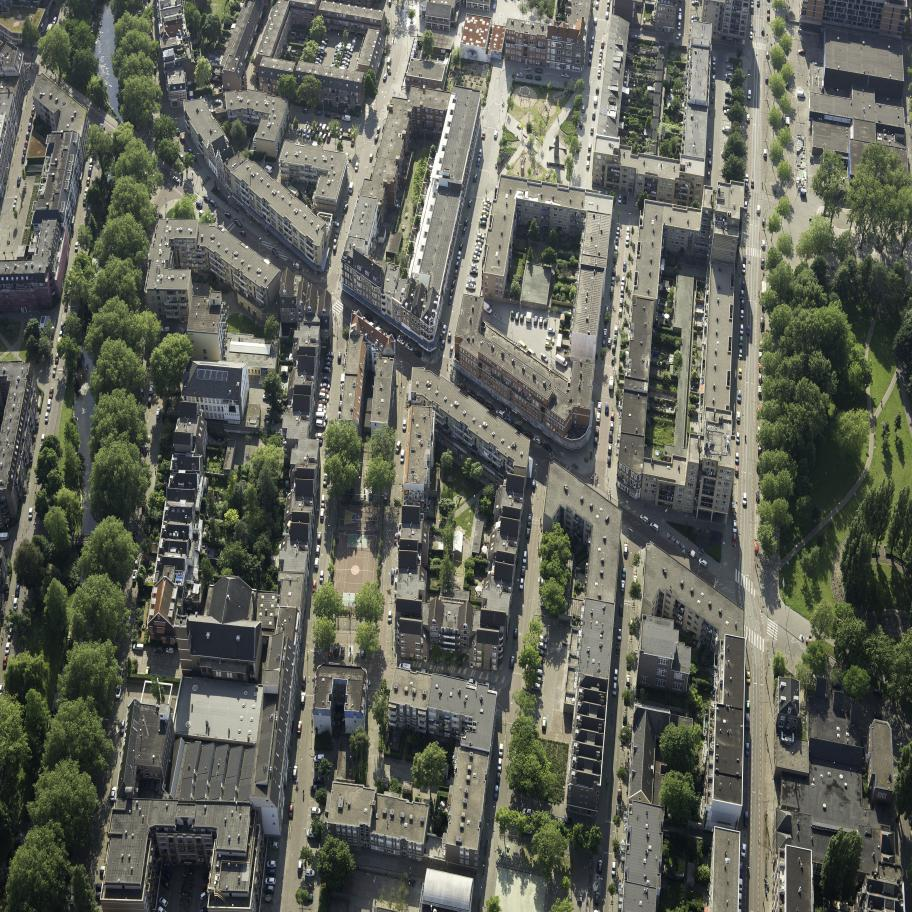large-vehicle: (286, 184, 304, 202)
small-vehicle: (478, 299, 495, 316), (553, 353, 570, 368), (516, 338, 530, 353), (537, 577, 553, 589), (198, 889, 212, 902), (648, 520, 662, 533), (306, 828, 321, 840), (159, 878, 172, 891), (871, 686, 885, 698), (161, 869, 174, 881), (157, 896, 170, 908), (512, 422, 525, 434), (526, 347, 538, 360), (620, 726, 628, 744), (697, 557, 709, 569), (739, 842, 748, 858), (638, 513, 651, 524), (831, 680, 844, 691), (398, 662, 412, 672), (233, 217, 244, 229), (362, 312, 374, 323), (465, 387, 477, 398), (403, 342, 415, 353), (871, 710, 883, 721), (466, 678, 479, 688), (522, 807, 535, 817), (109, 786, 117, 802), (263, 164, 274, 175), (495, 408, 506, 419), (542, 442, 553, 453), (686, 548, 697, 559), (200, 881, 212, 891), (263, 884, 275, 894), (386, 330, 398, 340), (539, 352, 549, 364), (804, 637, 816, 647), (315, 412, 328, 421), (394, 440, 403, 453), (561, 816, 574, 825), (327, 643, 335, 657), (208, 211, 218, 222), (484, 401, 495, 411), (372, 319, 383, 329), (474, 395, 485, 405), (503, 415, 514, 425), (522, 429, 533, 439), (532, 436, 543, 446), (201, 872, 213, 881), (318, 392, 330, 401), (310, 785, 322, 794), (454, 675, 466, 684), (530, 682, 542, 691), (115, 684, 122, 699), (141, 442, 149, 455), (624, 686, 630, 703), (202, 193, 212, 203), (209, 199, 219, 209), (292, 261, 302, 271), (457, 381, 467, 391), (396, 336, 406, 346), (241, 244, 252, 253), (317, 45, 328, 54), (315, 419, 326, 428), (303, 893, 314, 902), (265, 877, 276, 886), (304, 869, 315, 878), (311, 807, 322, 816), (313, 776, 324, 785), (270, 247, 279, 258), (441, 671, 452, 680), (481, 681, 492, 690), (537, 641, 548, 650), (522, 825, 533, 834), (818, 648, 829, 657), (119, 720, 126, 734), (132, 643, 144, 651), (14, 584, 21, 597), (4, 642, 11, 655), (69, 892, 76, 905), (131, 530, 138, 543), (342, 114, 352, 123), (195, 200, 204, 210), (216, 224, 226, 233), (197, 209, 207, 218), (266, 163, 276, 172), (340, 373, 346, 388), (269, 841, 279, 850), (314, 754, 324, 763), (413, 349, 423, 358), (538, 635, 548, 644), (608, 376, 614, 391), (536, 648, 546, 657), (597, 859, 603, 874), (611, 861, 617, 876), (320, 382, 331, 390), (465, 283, 476, 291), (545, 336, 556, 344), (13, 597, 19, 611), (7, 628, 14, 640), (493, 785, 499, 799), (292, 765, 298, 779), (297, 858, 303, 872), (390, 569, 396, 583), (498, 743, 504, 757), (612, 682, 618, 696), (737, 893, 743, 907), (738, 878, 744, 892), (238, 228, 247, 237), (674, 32, 683, 41), (100, 866, 110, 874), (173, 125, 181, 135), (340, 60, 350, 68), (361, 679, 371, 687), (314, 762, 324, 770), (797, 90, 807, 98), (132, 569, 138, 582), (368, 487, 374, 500), (301, 676, 307, 689), (387, 610, 393, 623), (288, 805, 294, 818), (297, 721, 303, 734), (495, 772, 501, 785), (497, 758, 503, 771), (509, 655, 515, 668), (613, 669, 619, 682), (522, 551, 528, 564), (520, 564, 526, 577), (519, 577, 525, 590), (617, 788, 623, 801), (615, 804, 621, 817), (745, 714, 750, 729), (744, 811, 749, 826), (738, 862, 743, 877), (118, 668, 124, 680), (98, 122, 106, 131), (48, 387, 54, 399), (46, 399, 52, 411), (2, 656, 8, 668), (96, 883, 105, 891), (69, 268, 75, 280), (334, 645, 340, 657), (319, 508, 325, 520), (300, 693, 306, 705), (267, 860, 276, 868), (266, 868, 275, 876), (348, 182, 354, 194), (331, 220, 340, 228), (441, 324, 447, 336), (476, 232, 485, 240), (541, 717, 547, 729), (535, 655, 544, 663), (540, 600, 549, 608), (594, 892, 600, 904), (621, 567, 627, 579), (154, 646, 164, 653), (144, 666, 151, 676), (324, 351, 334, 358), (439, 340, 446, 350), (533, 669, 543, 676), (629, 620, 634, 634), (722, 104, 732, 111), (733, 520, 738, 534), (745, 743, 750, 757), (16, 176, 22, 187), (40, 434, 46, 445), (9, 616, 15, 627), (125, 615, 131, 626), (65, 289, 71, 300), (57, 337, 63, 348), (316, 408, 327, 414), (513, 628, 519, 639), (321, 495, 326, 508), (312, 580, 317, 593), (400, 450, 405, 463), (617, 628, 622, 641), (527, 514, 532, 527), (742, 493, 747, 506), (732, 533, 737, 546), (95, 892, 103, 900), (178, 135, 186, 143), (172, 175, 180, 183), (224, 211, 232, 219), (204, 214, 212, 222), (634, 201, 642, 209), (51, 16, 58, 25), (178, 152, 185, 161), (187, 147, 194, 156), (191, 153, 198, 162), (213, 99, 222, 106), (161, 326, 170, 333), (315, 54, 324, 61), (335, 44, 344, 51), (345, 46, 354, 53), (344, 50, 353, 57), (322, 366, 331, 373), (320, 388, 329, 395), (318, 399, 327, 406), (314, 433, 323, 440), (421, 668, 430, 675), (467, 279, 476, 286), (482, 202, 491, 209), (475, 237, 484, 244), (474, 241, 483, 248), (534, 663, 543, 670), (533, 676, 542, 683), (561, 72, 570, 79), (544, 341, 553, 348), (386, 65, 392, 75), (28, 507, 33, 519), (134, 557, 140, 567), (306, 129, 312, 139), (326, 133, 332, 143), (386, 57, 392, 67), (323, 474, 328, 486), (317, 531, 322, 543), (349, 487, 354, 499), (315, 545, 321, 555), (314, 558, 320, 568), (319, 570, 324, 582), (340, 646, 345, 658), (472, 173, 478, 183), (402, 419, 407, 431), (449, 287, 455, 297), (449, 346, 455, 356), (453, 269, 459, 279), (619, 604, 624, 616), (456, 251, 462, 261), (608, 431, 613, 443), (525, 528, 531, 538), (627, 658, 632, 670), (633, 575, 638, 587), (620, 580, 625, 592), (621, 275, 626, 287), (625, 235, 630, 247), (737, 390, 742, 402), (758, 442, 763, 454), (746, 672, 751, 684), (166, 647, 174, 654), (324, 111, 332, 118), (343, 53, 351, 60), (340, 64, 348, 71), (322, 376, 330, 383), (315, 438, 323, 445), (325, 356, 333, 363), (482, 206, 490, 213), (481, 210, 489, 217), (473, 250, 481, 257), (471, 264, 479, 271), (782, 81, 790, 88), (89, 158, 94, 169), (44, 412, 49, 423), (147, 395, 152, 406), (55, 353, 60, 364), (138, 353, 143, 364), (338, 400, 343, 411), (360, 647, 365, 658), (515, 311, 520, 322), (607, 443, 612, 454), (596, 412, 601, 423), (623, 713, 628, 724), (623, 544, 628, 555), (735, 452, 740, 463), (754, 542, 759, 553), (739, 324, 744, 335), (67, 281, 73, 290), (297, 127, 303, 136), (310, 131, 316, 140), (317, 132, 323, 141), (314, 110, 323, 116), (332, 114, 341, 120), (334, 126, 340, 135), (338, 127, 344, 136), (337, 135, 343, 144), (346, 43, 355, 49), (342, 57, 351, 63), (343, 203, 349, 212), (493, 130, 499, 139), (483, 198, 492, 204), (471, 255, 480, 261), (469, 269, 478, 275), (30, 107, 36, 116), (541, 595, 550, 601), (534, 68, 543, 74), (722, 126, 731, 132), (547, 328, 556, 334), (27, 122, 32, 132), (32, 98, 37, 108), (84, 187, 89, 197), (82, 196, 87, 206), (60, 321, 65, 331), (149, 385, 154, 395), (139, 386, 144, 396), (140, 409, 145, 419), (357, 28, 362, 38), (476, 157, 481, 167), (394, 533, 399, 543), (712, 56, 717, 66), (448, 295, 453, 305), (609, 421, 614, 431), (533, 315, 538, 325), (605, 305, 610, 315), (760, 316, 765, 326), (740, 290, 745, 300), (739, 336, 744, 346), (738, 349, 743, 359), (382, 73, 388, 81), (317, 123, 323, 131), (301, 108, 309, 114), (321, 123, 327, 131), (325, 124, 331, 132), (329, 126, 335, 134), (320, 41, 328, 47), (318, 43, 326, 49), (317, 51, 325, 57), (315, 57, 323, 63), (314, 61, 322, 67), (331, 63, 339, 69), (335, 48, 343, 54), (318, 404, 326, 410), (480, 215, 488, 221), (534, 75, 542, 81), (605, 402, 609, 414), (516, 72, 524, 78), (540, 817, 548, 823), (525, 74, 533, 80), (726, 65, 734, 71), (725, 76, 733, 82), (724, 97, 732, 103), (736, 432, 740, 444), (798, 49, 806, 55), (25, 132, 30, 141), (24, 140, 29, 149), (86, 177, 91, 186), (74, 242, 79, 251), (59, 330, 64, 339), (147, 251, 152, 260), (302, 128, 307, 137), (322, 133, 327, 142), (354, 162, 359, 171), (347, 128, 352, 137), (350, 138, 355, 147), (349, 27, 354, 36), (327, 22, 332, 31), (338, 25, 343, 34), (337, 352, 342, 361), (447, 333, 452, 342), (451, 279, 456, 288), (455, 260, 460, 269), (590, 36, 595, 45), (510, 311, 515, 320), (599, 49, 604, 58), (616, 227, 621, 236), (458, 242, 463, 251), (610, 411, 615, 420), (593, 436, 598, 445), (597, 402, 602, 411), (618, 194, 623, 203), (622, 195, 627, 204), (611, 267, 616, 276), (520, 313, 525, 322), (604, 315, 609, 324), (626, 227, 631, 236), (756, 205, 761, 214), (156, 408, 160, 419), (142, 500, 146, 511), (626, 675, 630, 686), (620, 286, 624, 297), (747, 89, 751, 100), (757, 426, 761, 437), (761, 257, 765, 268), (172, 141, 178, 148), (322, 38, 329, 44), (475, 246, 482, 252), (692, 0, 699, 6), (724, 109, 731, 115), (525, 66, 532, 72), (721, 150, 728, 156), (22, 148, 27, 156), (88, 167, 92, 177), (40, 444, 44, 454), (64, 301, 68, 311), (148, 27, 153, 35), (467, 199, 472, 207), (334, 52, 342, 57), (332, 60, 340, 65), (374, 134, 379, 142), (345, 488, 349, 498), (481, 131, 486, 139), (478, 149, 483, 157), (464, 218, 469, 226), (479, 221, 487, 226), (593, 96, 598, 104), (607, 455, 611, 465), (611, 276, 615, 286), (618, 307, 623, 315), (607, 338, 612, 346), (612, 344, 617, 352), (603, 328, 607, 338), (543, 318, 548, 326), (602, 338, 606, 348), (614, 245, 618, 255), (623, 261, 627, 271), (677, 22, 682, 30), (736, 411, 740, 421), (746, 700, 750, 710), (462, 226, 467, 234), (738, 368, 742, 378), (742, 254, 746, 264), (742, 263, 746, 273), (740, 310, 744, 320), (759, 341, 763, 351), (610, 285, 614, 294), (21, 155, 25, 164), (133, 297, 137, 306), (331, 23, 335, 32), (340, 390, 344, 399), (596, 189, 600, 198), (597, 69, 601, 78), (592, 111, 596, 120), (532, 480, 536, 489), (595, 426, 599, 435), (614, 325, 618, 334), (613, 335, 617, 344), (611, 355, 615, 364), (708, 148, 712, 157), (745, 174, 749, 183), (744, 183, 748, 192), (735, 465, 739, 474), (758, 386, 762, 395), (756, 462, 760, 471), (756, 491, 760, 500), (744, 201, 748, 210), (615, 236, 619, 245), (750, 5, 754, 14), (741, 300, 745, 309), (762, 301, 766, 310), (351, 131, 356, 138), (376, 126, 381, 133), (337, 42, 344, 47), (369, 153, 374, 160), (334, 56, 341, 61), (310, 823, 317, 828), (593, 17, 598, 24), (691, 15, 698, 20), (725, 73, 732, 78), (725, 91, 732, 96), (29, 116, 33, 124), (144, 5, 148, 13), (156, 92, 160, 100), (750, 24, 754, 32), (354, 28, 358, 36), (335, 24, 339, 32), (346, 26, 350, 34), (605, 11, 609, 19), (601, 40, 605, 48), (598, 63, 602, 71), (595, 85, 599, 93), (581, 105, 585, 113), (579, 121, 583, 129), (588, 143, 592, 151), (586, 161, 590, 169), (539, 317, 543, 325), (613, 255, 617, 263), (712, 74, 716, 82), (749, 31, 753, 39), (746, 114, 750, 122), (763, 149, 767, 157), (757, 406, 761, 414), (758, 352, 762, 360), (54, 12, 59, 18), (324, 362, 330, 367), (625, 32, 631, 37), (691, 19, 697, 24), (145, 270, 149, 277), (333, 245, 337, 252), (712, 66, 716, 73), (595, 1, 599, 8), (590, 44, 594, 51), (589, 51, 593, 58), (588, 59, 592, 66), (590, 127, 594, 134), (587, 153, 591, 160), (678, 8, 682, 15), (708, 160, 712, 167), (707, 171, 711, 178), (761, 27, 765, 34), (766, 51, 770, 58), (765, 76, 769, 83), (606, 5, 610, 12), (762, 218, 766, 225), (751, 179, 754, 188), (620, 298, 623, 307), (759, 373, 762, 382), (742, 281, 745, 290), (747, 326, 750, 335), (690, 26, 695, 31), (144, 280, 147, 288), (712, 82, 715, 90), (711, 96, 714, 104), (762, 240, 765, 248), (759, 363, 762, 371), (138, 9, 141, 16), (605, 191, 608, 198), (599, 57, 602, 64), (767, 13, 770, 20), (767, 7, 770, 13)
